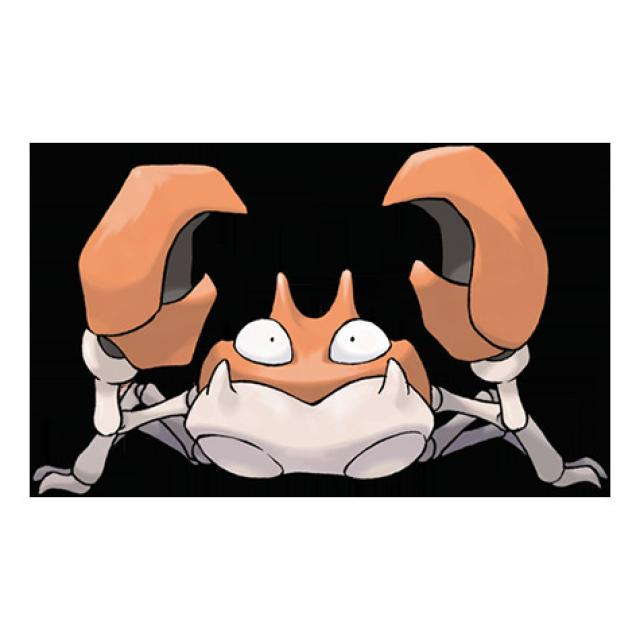Krabby: (35, 148, 611, 502)
